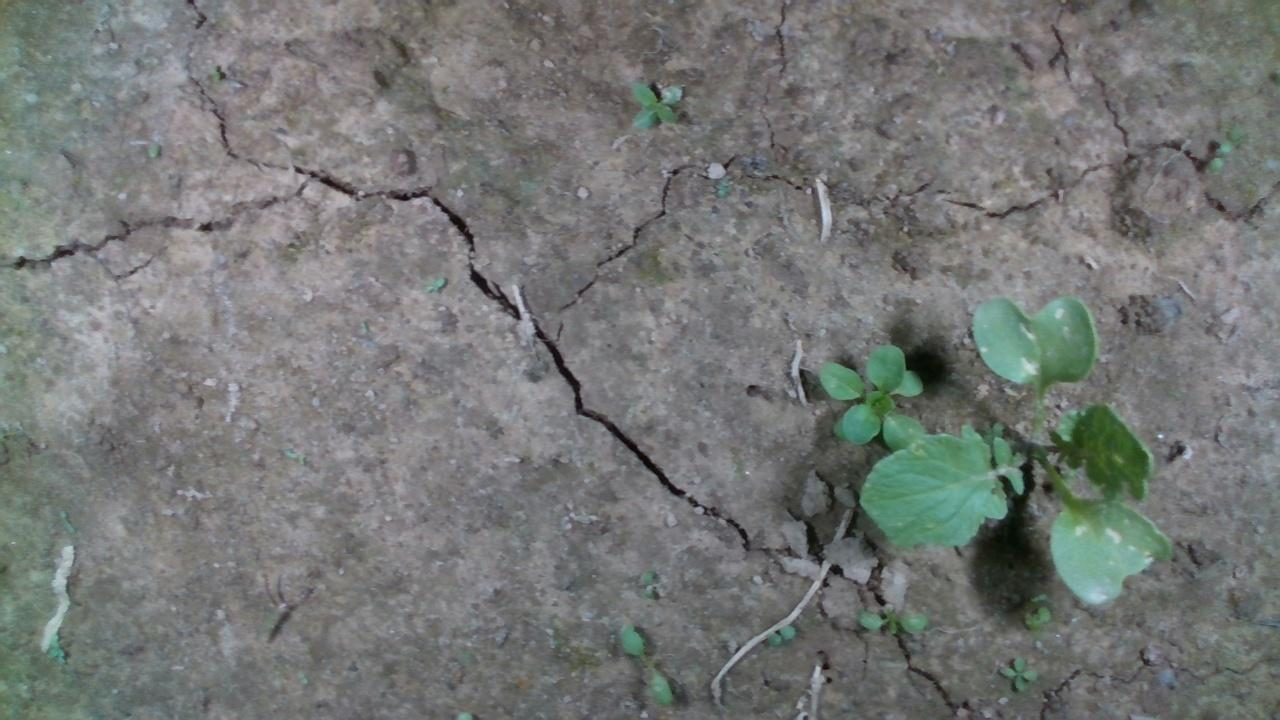weed: (628, 75, 687, 129), (857, 602, 928, 635), (998, 654, 1040, 691), (764, 622, 800, 645), (421, 273, 452, 294)
